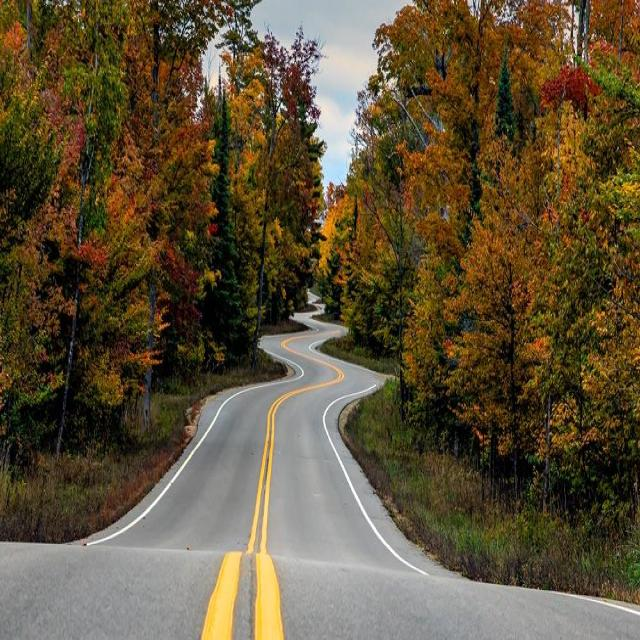parterre: (419, 156, 640, 517), (2, 48, 247, 372)
